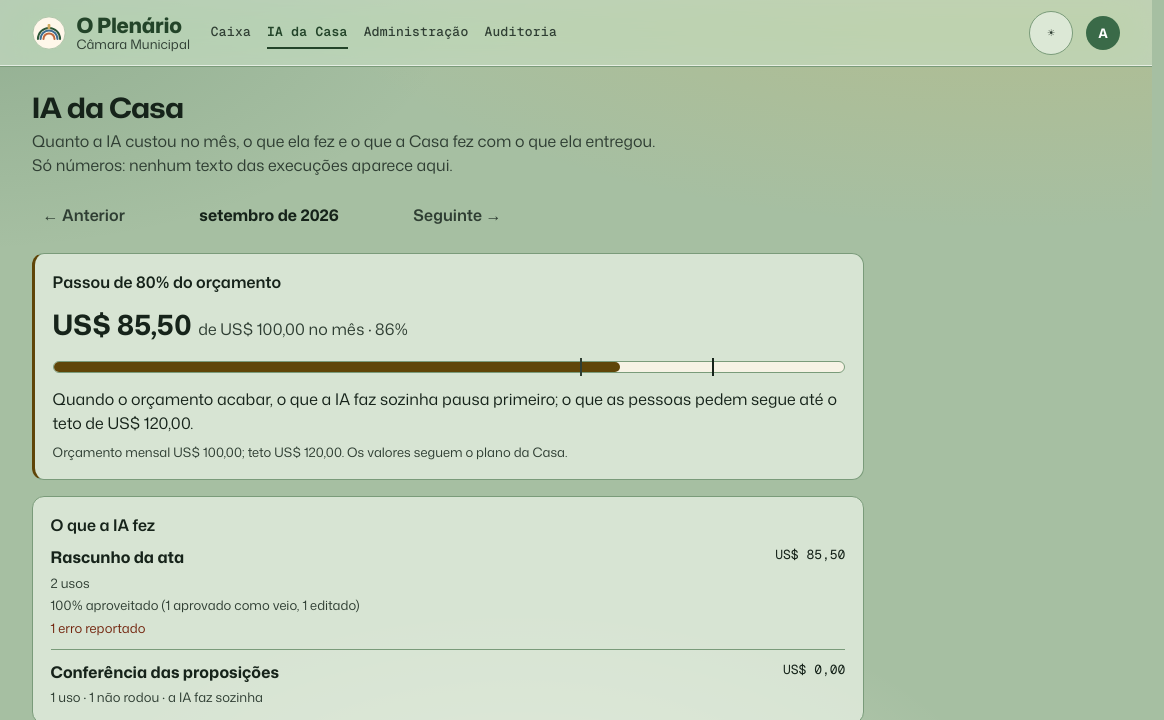
Test case: IA da Casa › mês anterior pede o mês certo
The width and height of the screenshot is (1164, 720).
Click the button with aria-label "Mês anterior": (84, 215) [32,193,136,237]
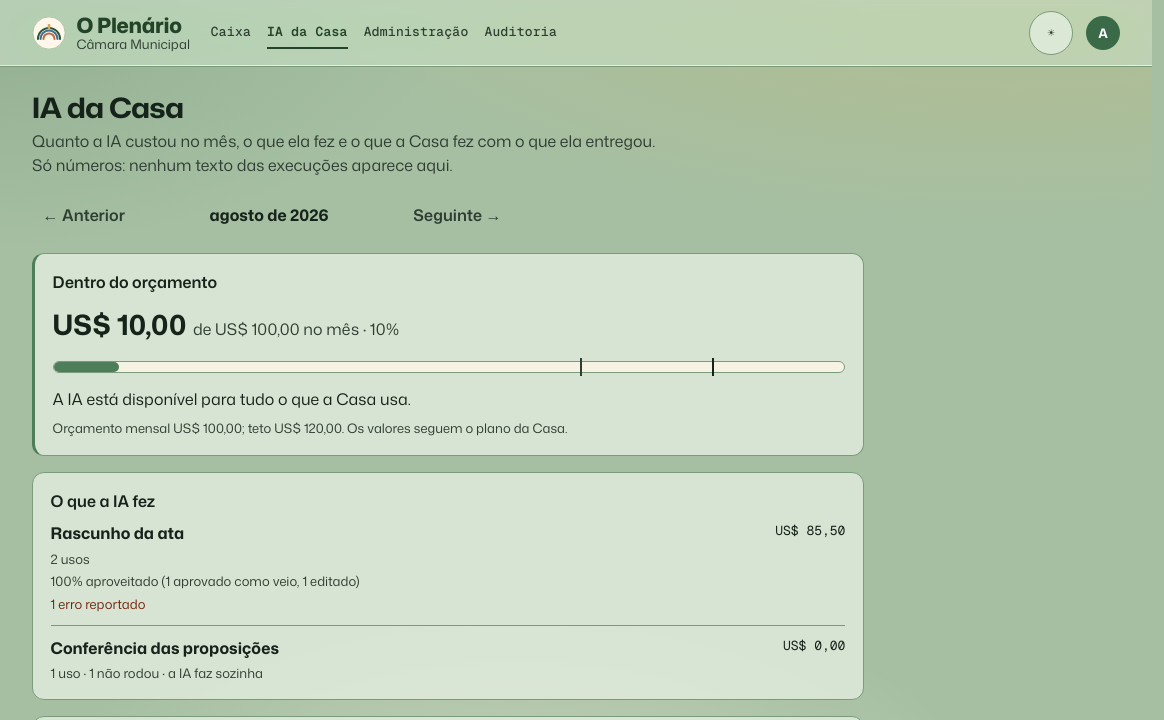
Check: the text "agosto de 2026" is shown, box [210,204,329,226]
